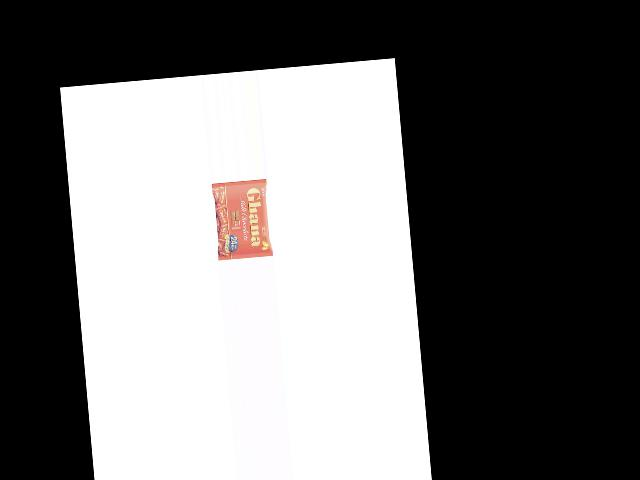chocolate: (209, 180, 271, 261)
